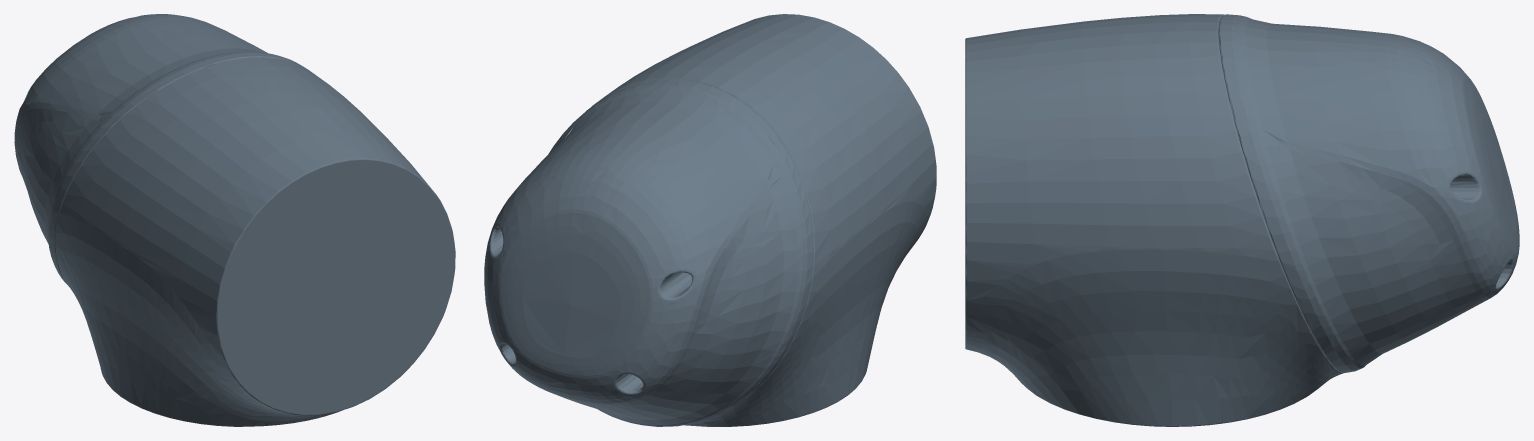
3 renders of one model, left to right at view 1: azimuth 30°, elevation 25°; view 2: azimuth 150°, elevation 25°; view 3: azimuth 270°, elevation 25°, orthographic. The views are drawn at different scales.
Visible parts, largest first — view 1: A0509_4_1; view 2: A0509_4_1; view 3: A0509_4_1.
Boxes of the visible parts, left/top/right/bottom form: A0509_4_1: left=14, top=14, right=455, bottom=426; A0509_4_1: left=484, top=14, right=936, bottom=426; A0509_4_1: left=965, top=14, right=1519, bottom=426.
Size of the model in its own units: 101 by 155 by 101.
